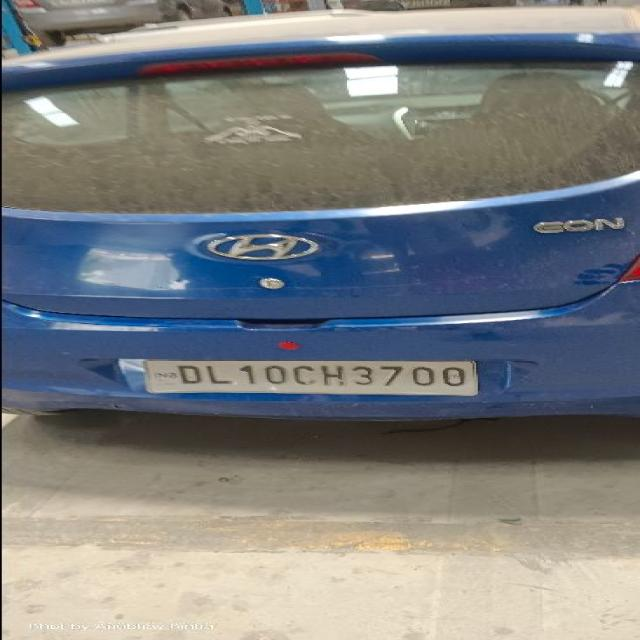license_plate: (140, 358, 480, 396)
